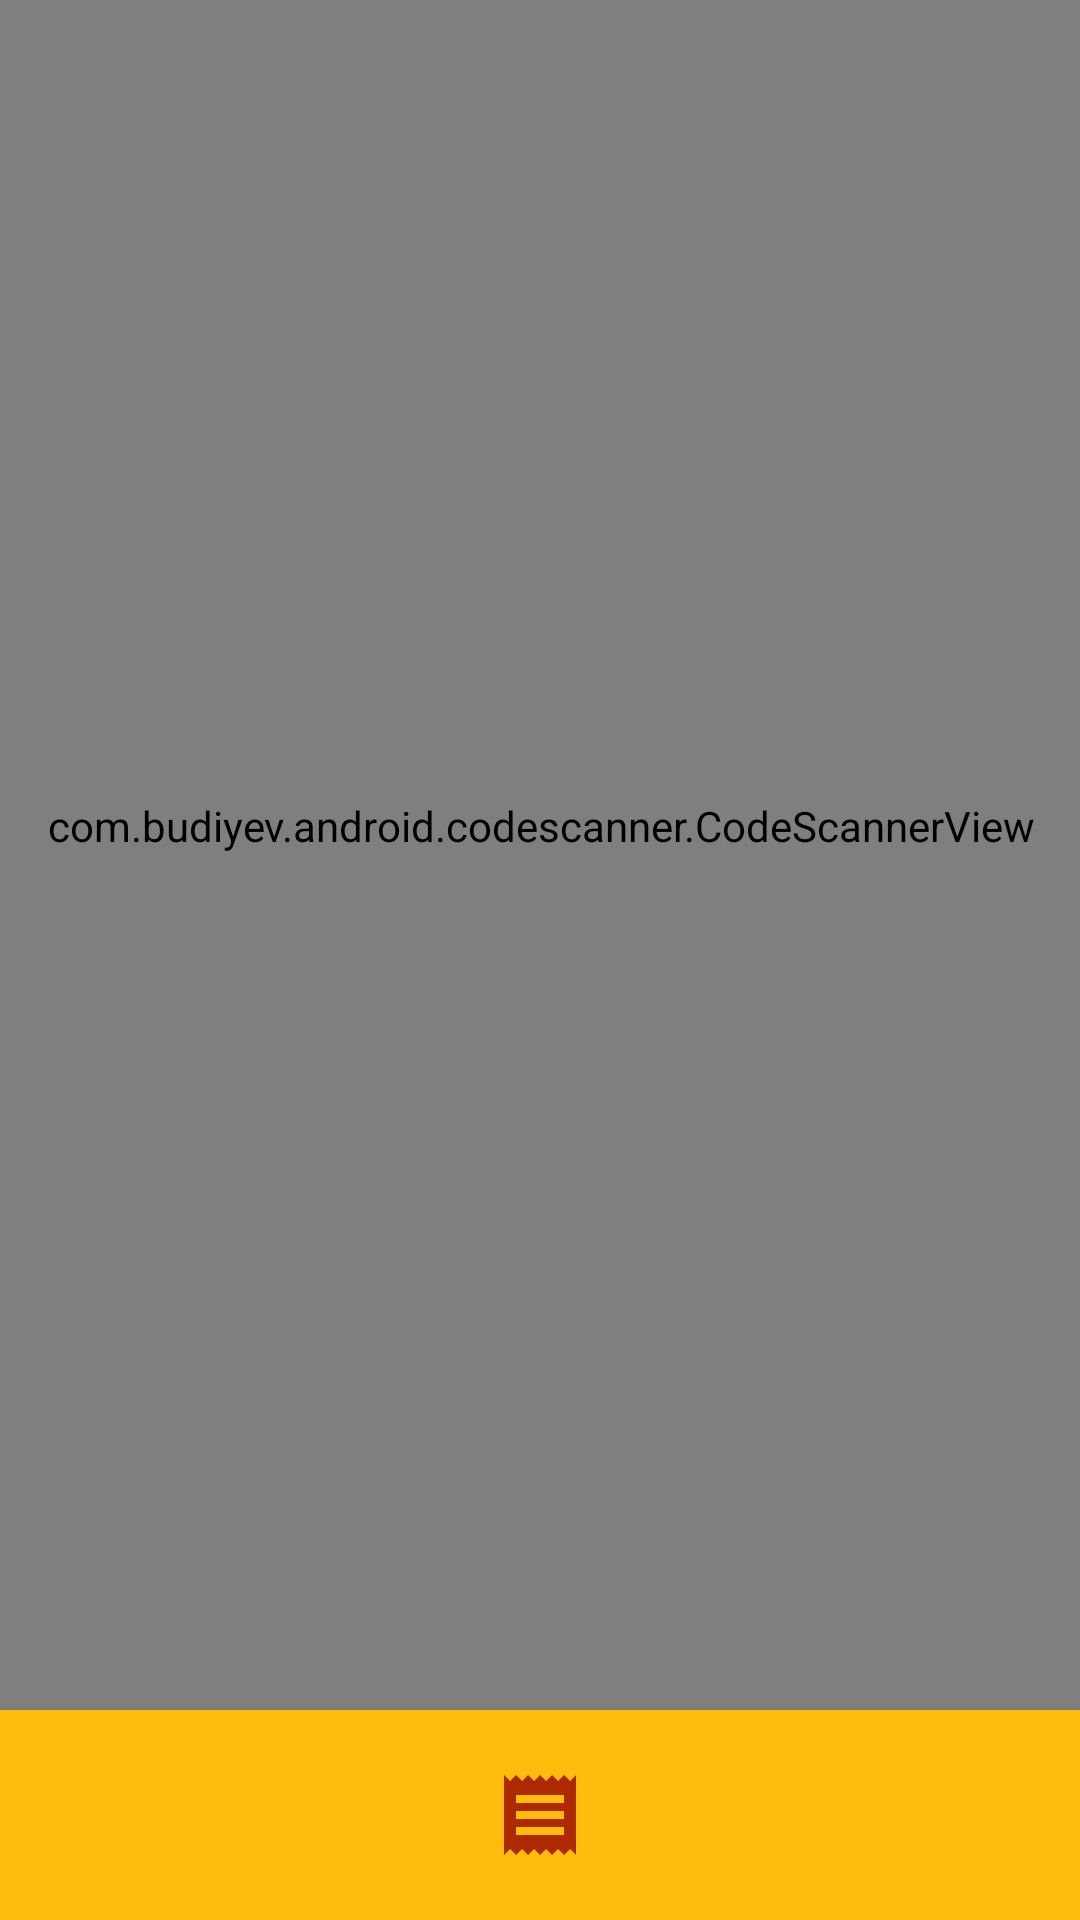

Point at icon controls on the screen. Image size 1080×1920, points as [x,y].
Transaction Button: [540,1815]
